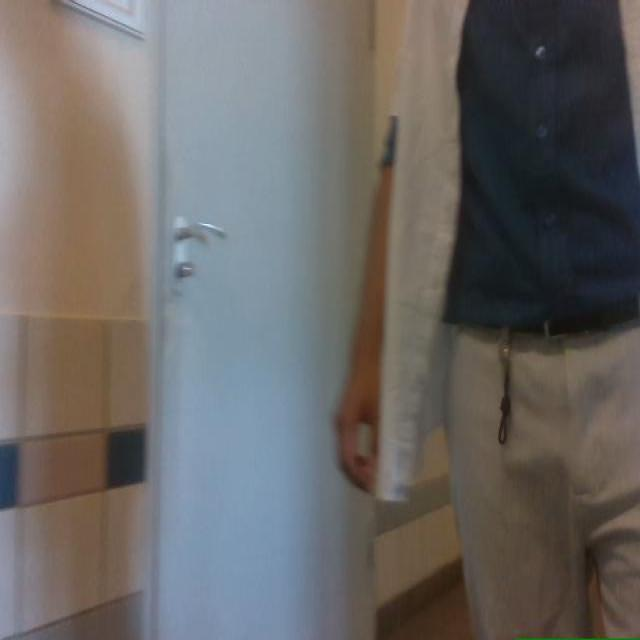humans: (338, 0, 639, 639)
